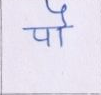e_matra: (46, 1, 72, 25)
